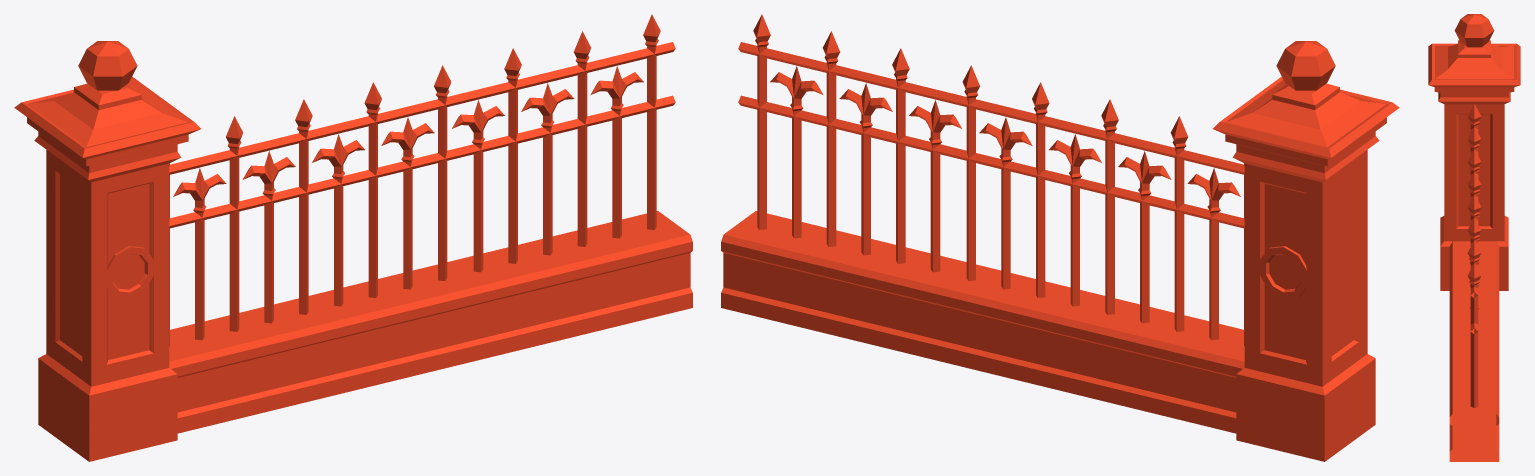
Rendered from SM_Fence_Ornamental_3m_City.fbx.
3 views of the same model, side by side, from view 1: azimuth 30°, elevation 25°; view 2: azimuth 150°, elevation 25°; view 3: azimuth 270°, elevation 25° (orthographic). The views are drawn at different scales.
Parts seen in each view (by area): view 1: SM_Fence_Ornamental_3m_City; view 2: SM_Fence_Ornamental_3m_City; view 3: SM_Fence_Ornamental_3m_City.
Boxes of the visible parts, bbox=[...] form: SM_Fence_Ornamental_3m_City: bbox=[14, 14, 692, 461]; SM_Fence_Ornamental_3m_City: bbox=[721, 14, 1399, 461]; SM_Fence_Ornamental_3m_City: bbox=[1428, 14, 1520, 461].
Size of the model in its own units: 3.12 by 1.86 by 0.5931.
